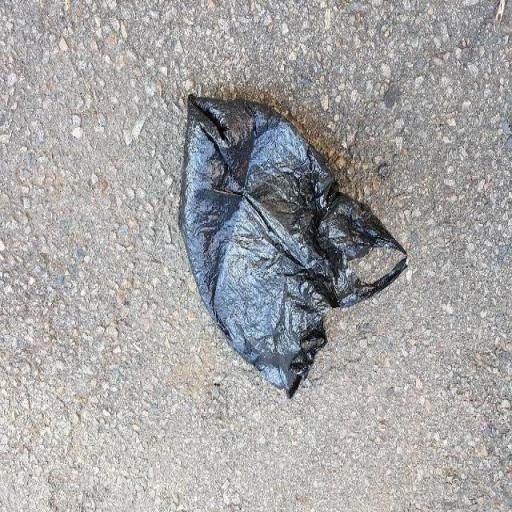plastic-bag: (177, 92, 412, 398)
